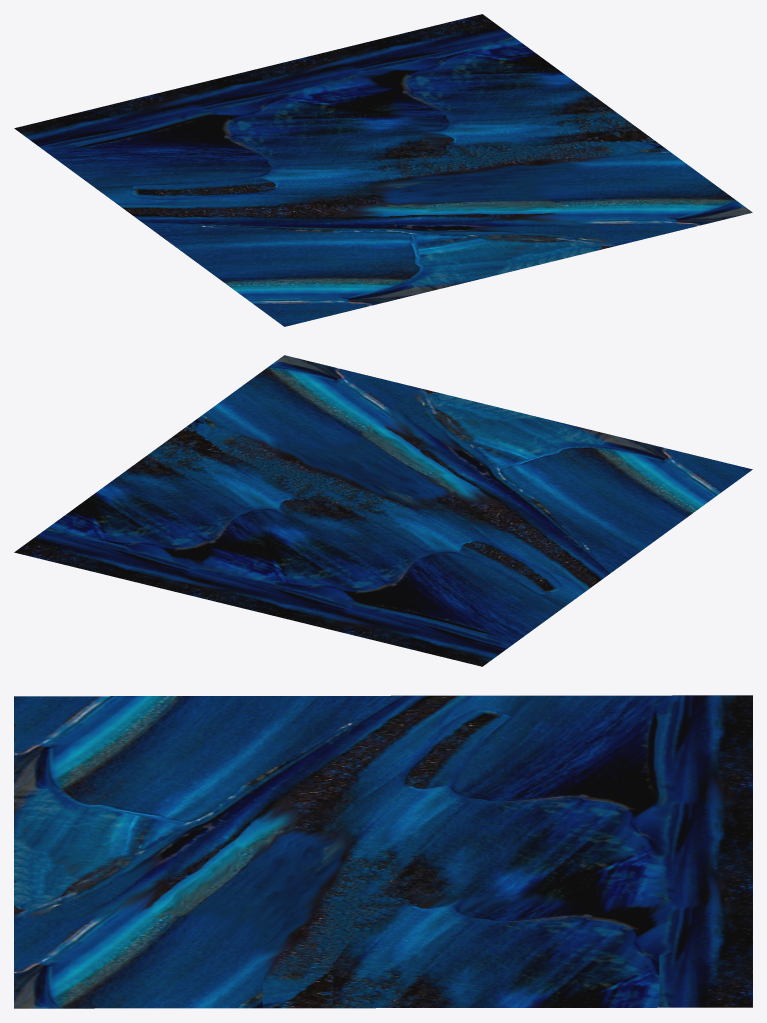
File: water.obj
The picture shows the model from 3 angles, top to bottom: view 1: azimuth 30°, elevation 25°; view 2: azimuth 150°, elevation 25°; view 3: azimuth 270°, elevation 25°; orthographic projection. The views are drawn at different scales.
Bounding box in the file's own units: 1000 × 1.31 × 1000.
